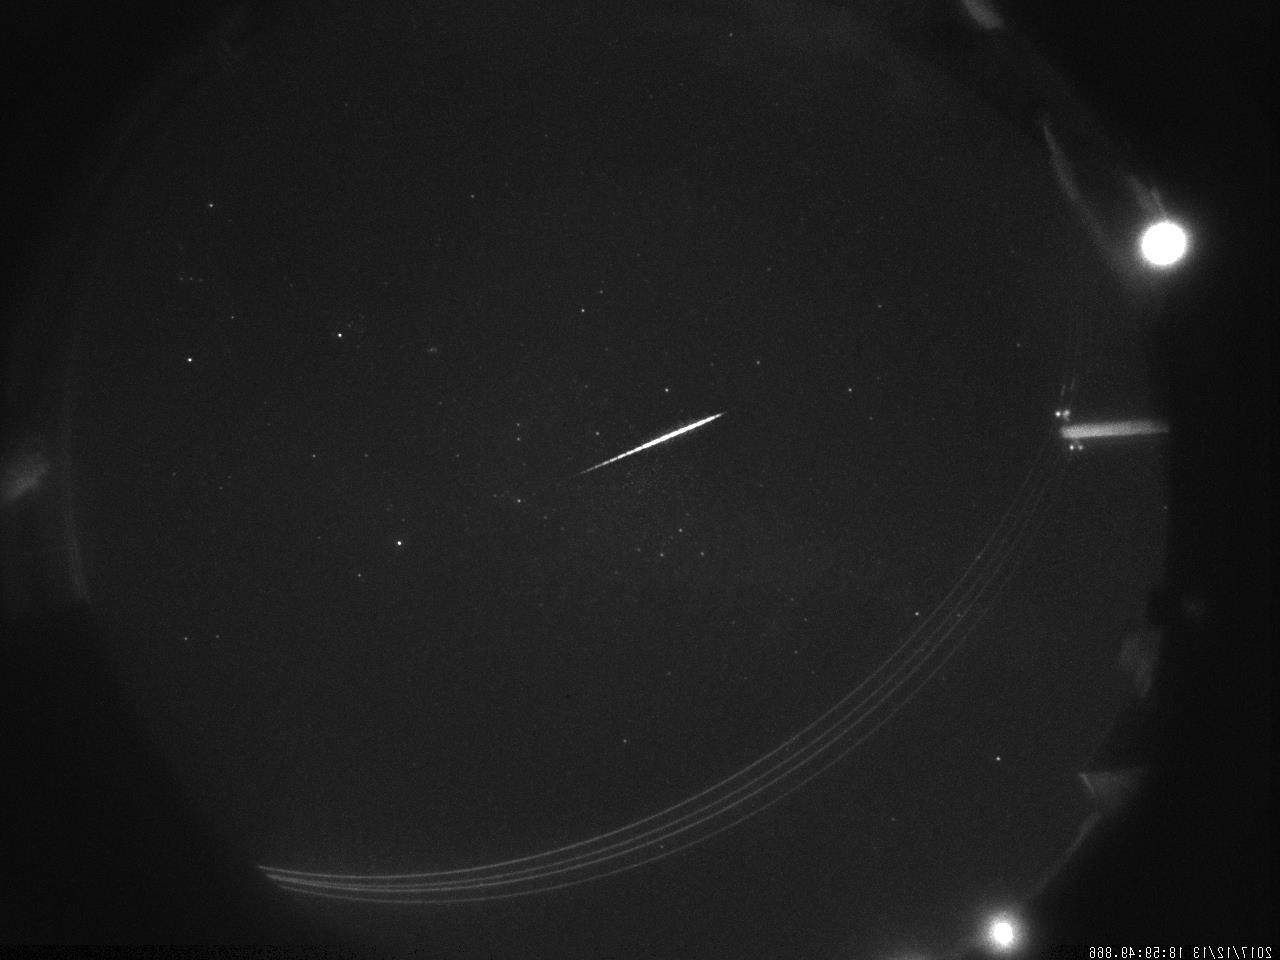meteor: (547, 384, 760, 500)
